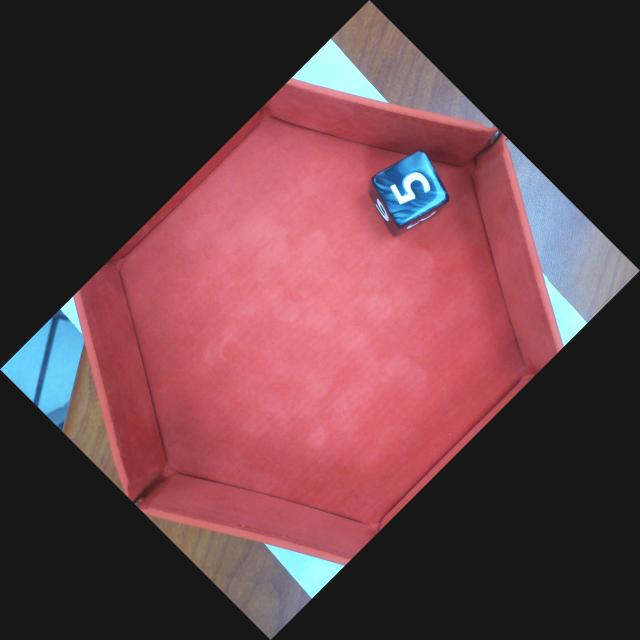dice: (369, 149, 452, 231)
